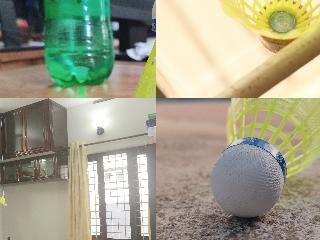shuttlecock: (210, 98, 319, 215), (206, 0, 319, 52), (119, 0, 155, 97), (0, 196, 6, 207)
